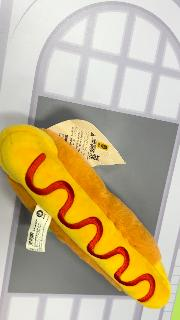hotdog: (1, 123, 171, 309)
